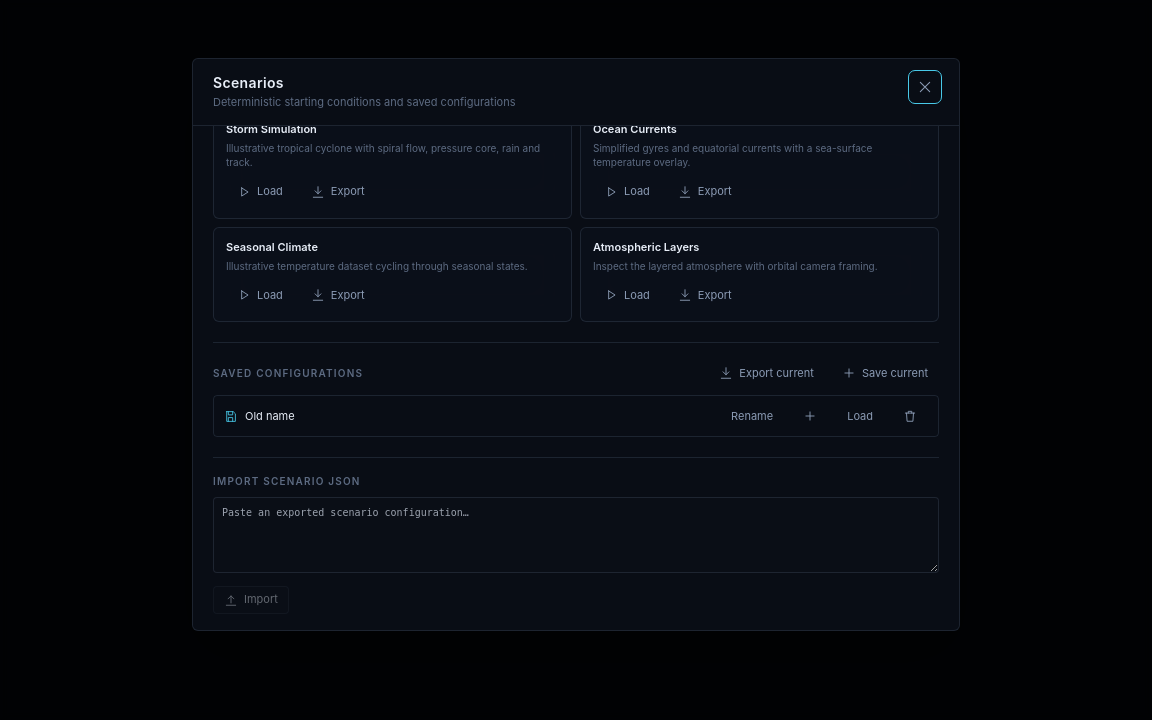
Test: ScenarioBrowser › renames a saved configuration
This screenshot has width=1152, height=720.
(page scrolled)
Click the button "Rename" at (752, 416), box [720,402,784,430]
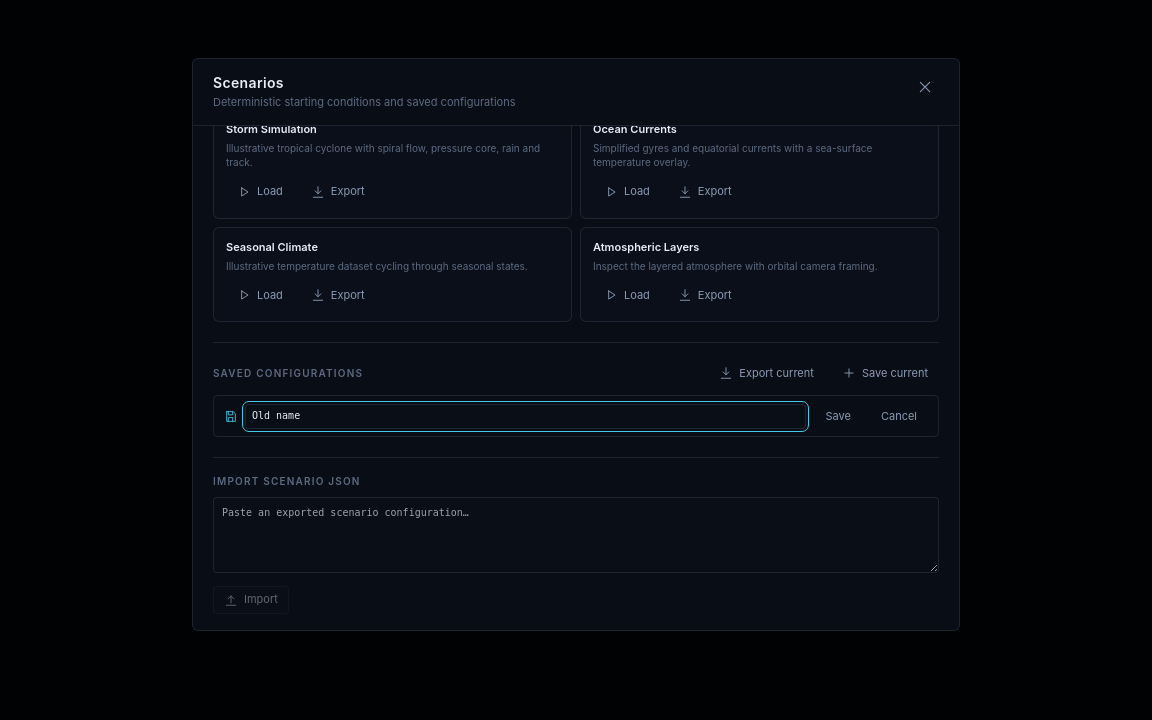
Replace the text in the field named "Rename Old name" with "New name" at (526, 416), box [245,404,806,429]
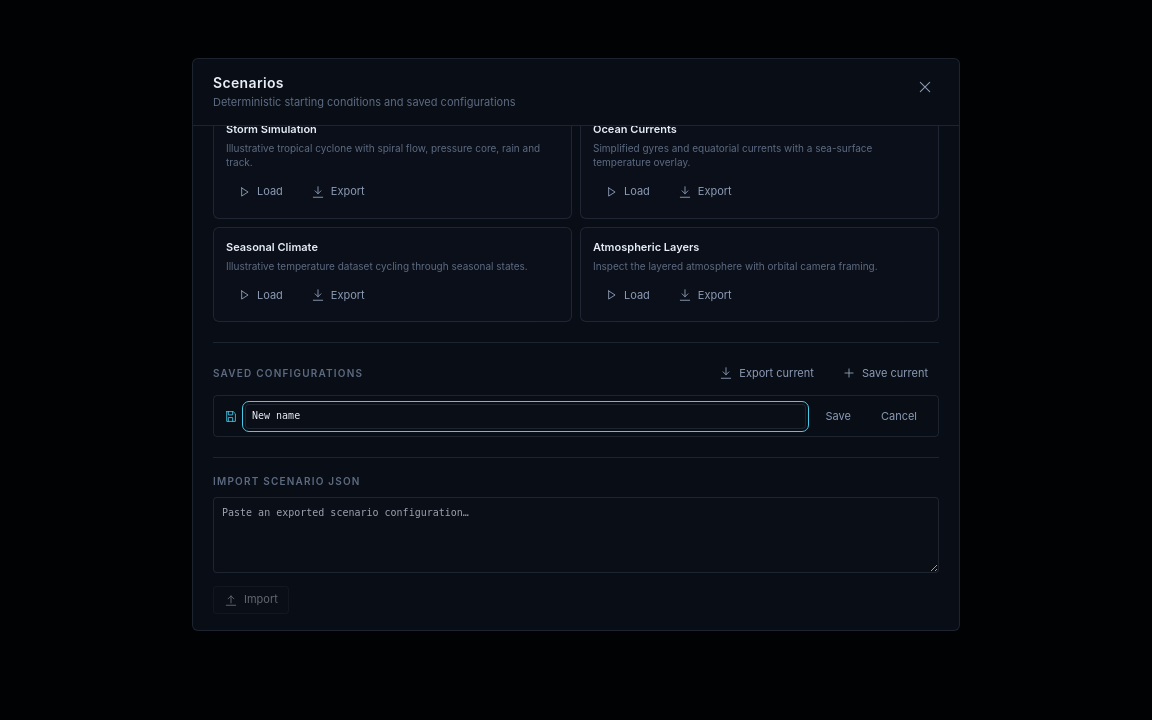
Click the button "Save" at (838, 416), box [814,402,862,430]
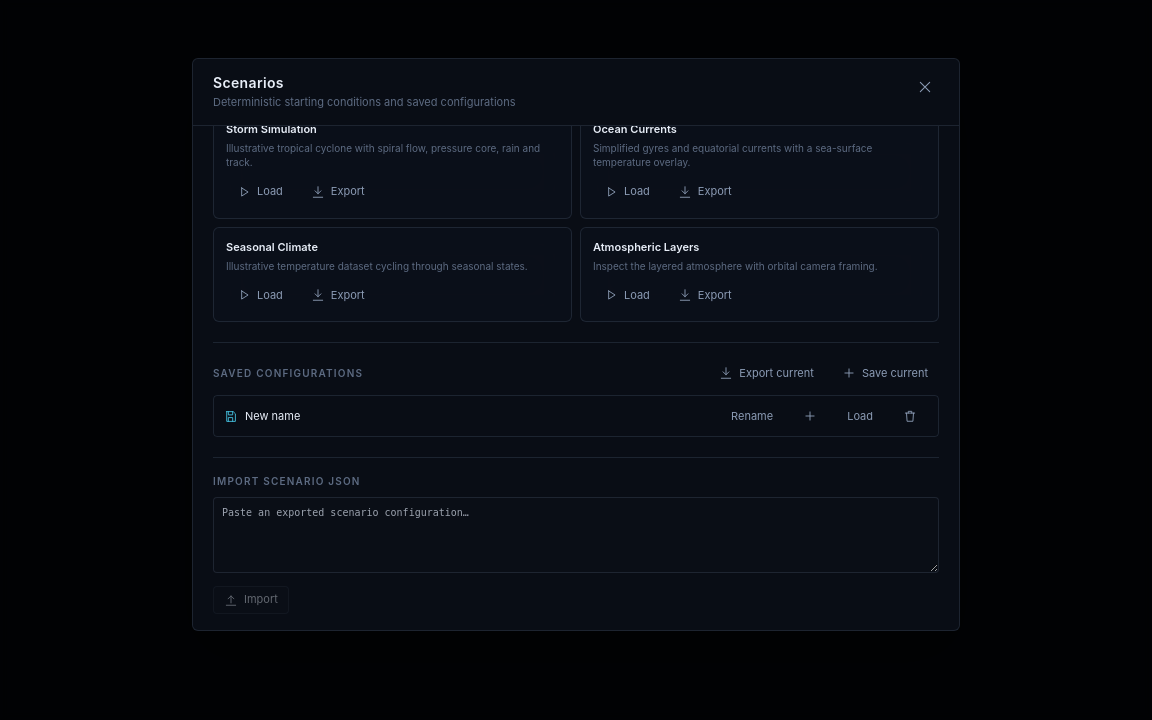
Now the text "New name" is shown, box [245,408,300,422]
